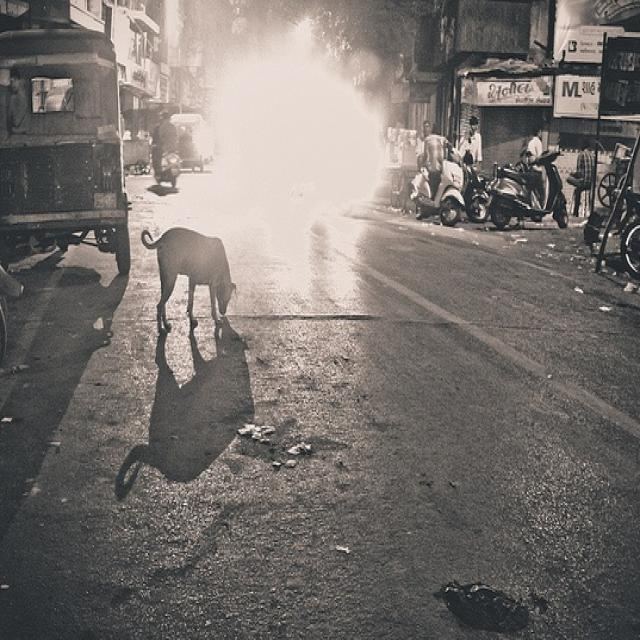Dog: (96, 143, 272, 421)
